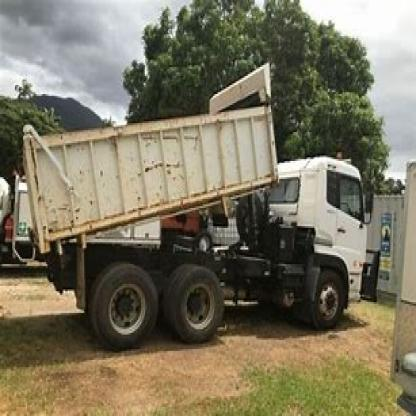dump_truck: (12, 63, 378, 346)
